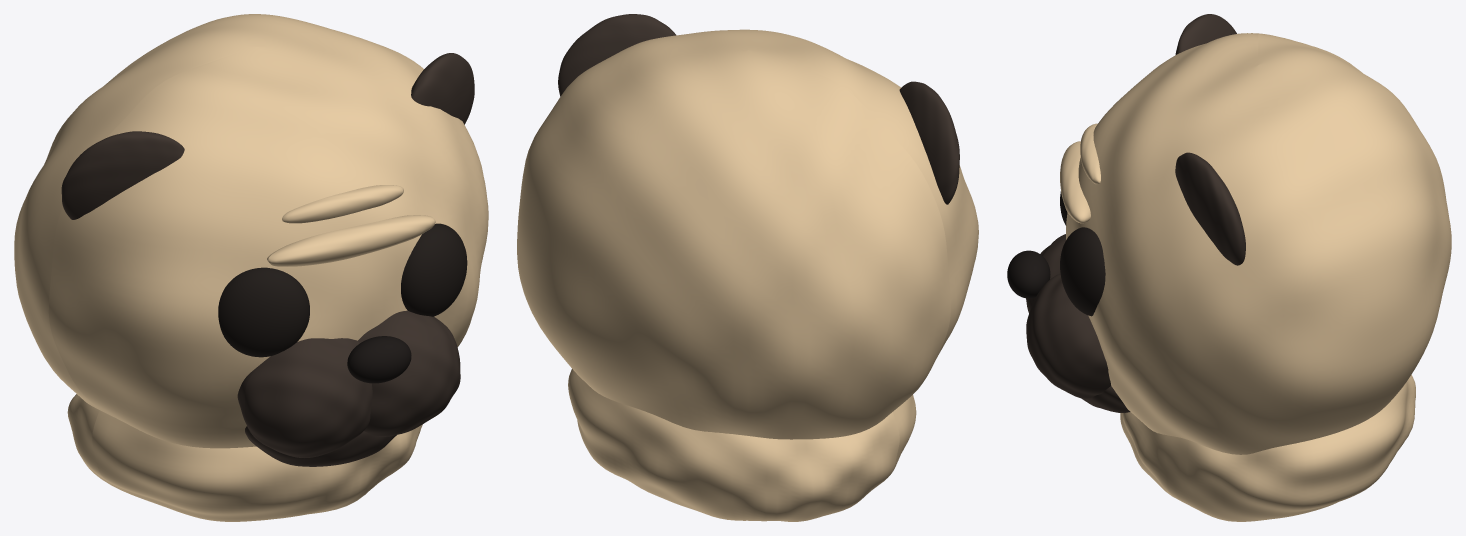
The model's file is head-dog-pug-full.glb.
The picture shows the model from 3 angles, left to right: view 1: azimuth 30°, elevation 25°; view 2: azimuth 150°, elevation 25°; view 3: azimuth 270°, elevation 25°; orthographic projection. The views are drawn at different scales.
Parts seen in each view (by area): view 1: PM_FUR_MAIN_1, PM_FUR_MAIN_12, PM_FUR_SECONDARY_2, PM_FUR_SECONDARY_3, PM_EYES_8, PM_EARS_10, PM_EYES_9, PM_FUR_MAIN_5, PM_EARS_11, PM_NOSE_7, PM_FUR_MAIN_6, PM_FUR_SECONDARY_4; view 2: PM_FUR_MAIN_1, PM_FUR_MAIN_12, PM_EARS_10, PM_EARS_11; view 3: PM_FUR_MAIN_1, PM_FUR_MAIN_12, PM_FUR_SECONDARY_3, PM_EARS_11, PM_EYES_9, PM_NOSE_7, PM_FUR_MAIN_5, PM_EARS_10, PM_FUR_MAIN_6, PM_FUR_SECONDARY_2, PM_FUR_SECONDARY_4.
Part boxes in pixels (x1=…): PM_FUR_MAIN_1: x1=14, y1=14, x2=488, y2=448; PM_FUR_MAIN_12: x1=67, y1=394, x2=422, y2=521; PM_FUR_SECONDARY_2: x1=237, y1=338, x2=372, y2=457; PM_FUR_SECONDARY_3: x1=358, y1=310, x2=460, y2=436; PM_EYES_8: x1=218, y1=267, x2=309, y2=357; PM_EARS_10: x1=61, y1=131, x2=184, y2=219; PM_EYES_9: x1=401, y1=223, x2=467, y2=316; PM_FUR_MAIN_5: x1=267, y1=215, x2=435, y2=266; PM_EARS_11: x1=411, y1=53, x2=474, y2=124; PM_NOSE_7: x1=347, y1=336, x2=411, y2=383; PM_FUR_MAIN_6: x1=282, y1=185, x2=403, y2=223; PM_FUR_SECONDARY_4: x1=245, y1=426, x2=396, y2=466; PM_FUR_MAIN_1: x1=517, y1=29, x2=978, y2=439; PM_FUR_MAIN_12: x1=568, y1=369, x2=916, y2=521; PM_EARS_10: x1=899, y1=81, x2=959, y2=204; PM_EARS_11: x1=558, y1=14, x2=675, y2=96; PM_FUR_MAIN_1: x1=1066, y1=33, x2=1451, y2=454; PM_FUR_MAIN_12: x1=1120, y1=375, x2=1415, y2=521; PM_FUR_SECONDARY_3: x1=1026, y1=273, x2=1111, y2=398; PM_EARS_11: x1=1175, y1=152, x2=1245, y2=265; PM_EYES_9: x1=1060, y1=227, x2=1105, y2=316; PM_NOSE_7: x1=1007, y1=250, x2=1050, y2=298; PM_FUR_MAIN_5: x1=1060, y1=141, x2=1090, y2=223; PM_EARS_10: x1=1175, y1=14, x2=1236, y2=54; PM_FUR_MAIN_6: x1=1080, y1=123, x2=1100, y2=184; PM_FUR_SECONDARY_2: x1=1026, y1=234, x2=1065, y2=313; PM_FUR_SECONDARY_4: x1=1081, y1=386, x2=1130, y2=412.
Bounding box in the file's own units: 0.069 × 0.0727 × 0.0677.
